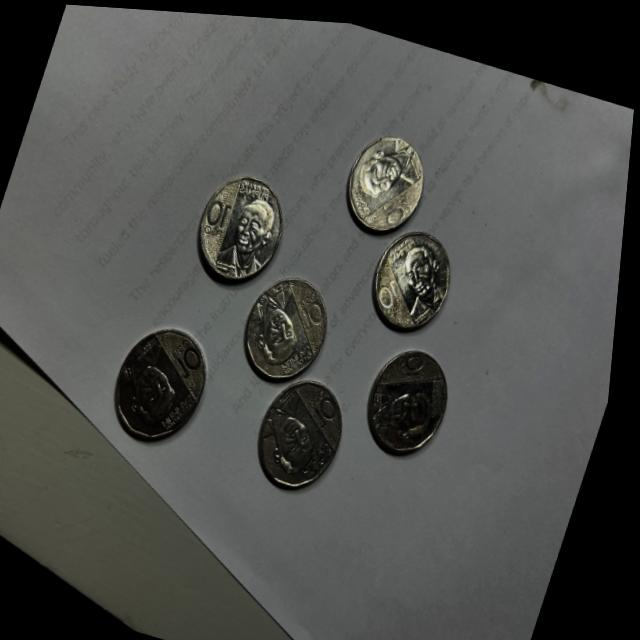10_New_Front: (285, 275, 343, 331), (165, 327, 215, 384), (197, 187, 245, 243), (374, 265, 425, 316), (374, 176, 420, 229), (307, 381, 355, 430), (395, 342, 439, 381)
